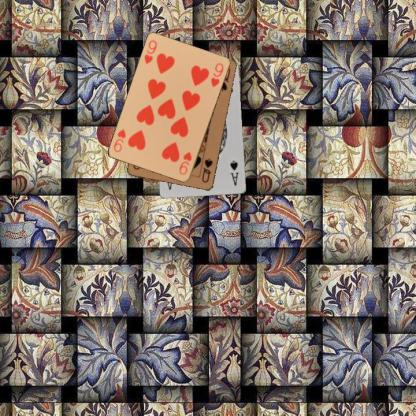9h: (177, 149, 193, 176), (142, 38, 158, 65)
As: (228, 158, 240, 186)
Qs: (200, 156, 214, 184)
